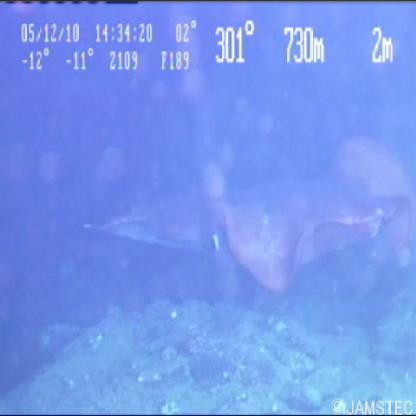Bio: (77, 132, 416, 299)
